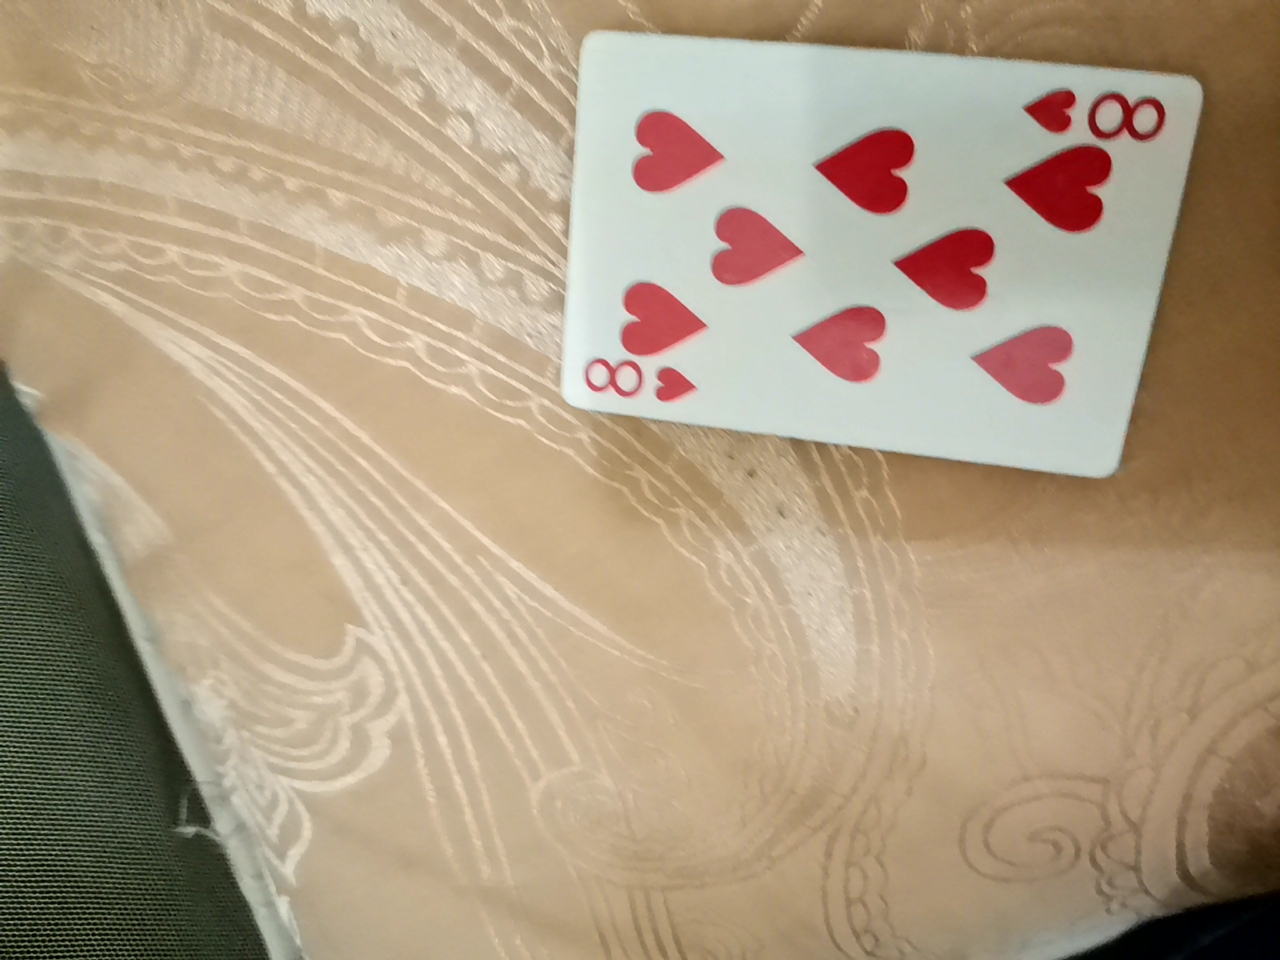hx 8: (590, 44, 1214, 492)
